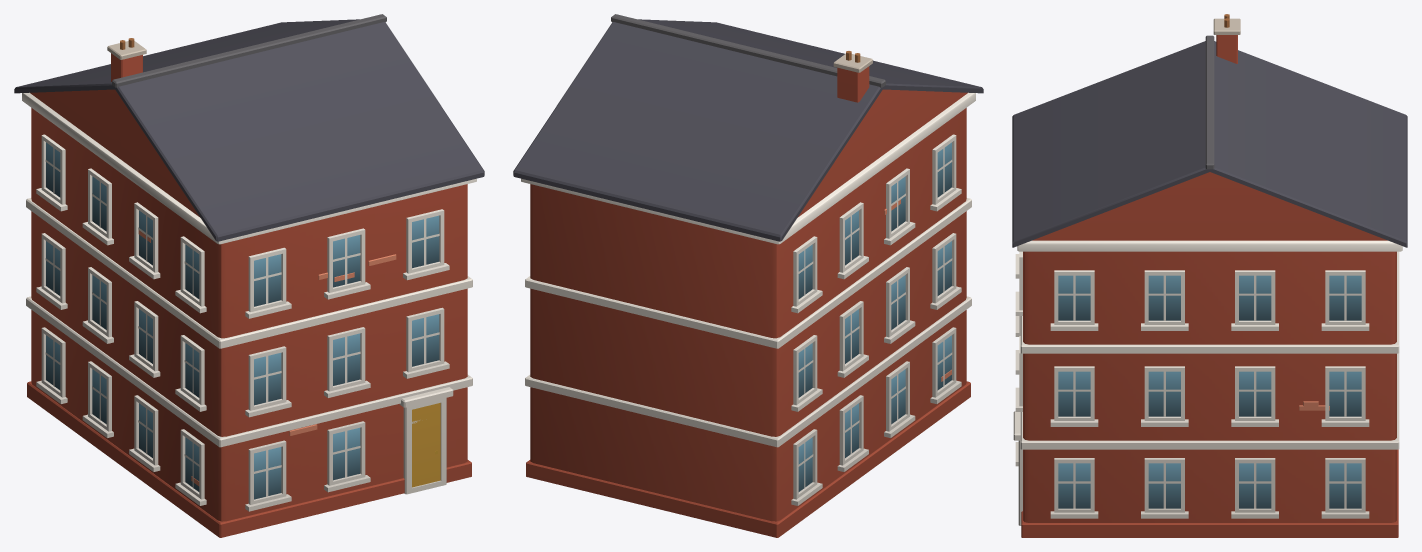
Rendered from beacon_n0.glb.
3 renders of one model, left to right at view 1: azimuth 30°, elevation 25°; view 2: azimuth 150°, elevation 25°; view 3: azimuth 270°, elevation 25°, orthographic. The views are drawn at different scales.
Parts seen in each view (by area): view 1: beacon_n0; view 2: beacon_n0; view 3: beacon_n0.
Boxes of the visible parts, x1,y1,x2,y2 form: beacon_n0: (14,14,484,537); beacon_n0: (513,14,983,537); beacon_n0: (1012,14,1407,537).
Bounding box in the file's own units: 9.8 × 14.42 × 12.7.
1 material, 1 textured.
